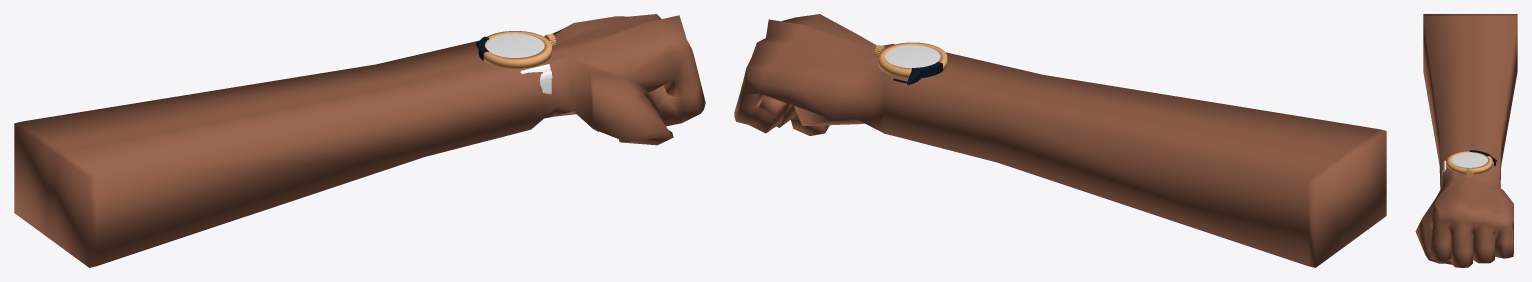
File: TheWatchBatchTest1.gltf
3 renders of one model, left to right at view 1: azimuth 30°, elevation 25°; view 2: azimuth 150°, elevation 25°; view 3: azimuth 270°, elevation 25°, orthographic. The views are drawn at different scales.
Visible parts, largest first — view 1: Hand2, Glass, CaseIn1, Band2; view 2: Hand2, Glass, CaseIn1, CaseOut4; view 3: Hand2, Glass, CaseIn1, CaseOut4.
Boxes of the visible parts, <box> form: Hand2: <box>14,14,705,267</box>; Glass: <box>486,33,544,57</box>; CaseIn1: <box>483,31,551,68</box>; Band2: <box>520,64,552,94</box>; Hand2: <box>734,14,1386,267</box>; Glass: <box>885,45,940,68</box>; CaseIn1: <box>878,42,947,78</box>; CaseOut4: <box>893,62,942,84</box>; Hand2: <box>1415,14,1517,267</box>; Glass: <box>1451,152,1487,167</box>; CaseIn1: <box>1447,151,1492,174</box>; CaseOut4: <box>1469,150,1496,165</box>.
Size of the model in its own units: 1.02 by 0.1833 by 0.226.
